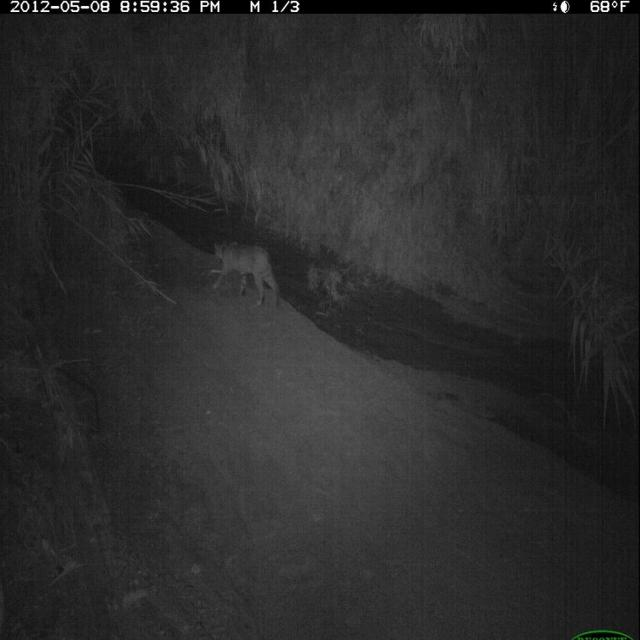bobcat: (210, 236, 286, 317)
